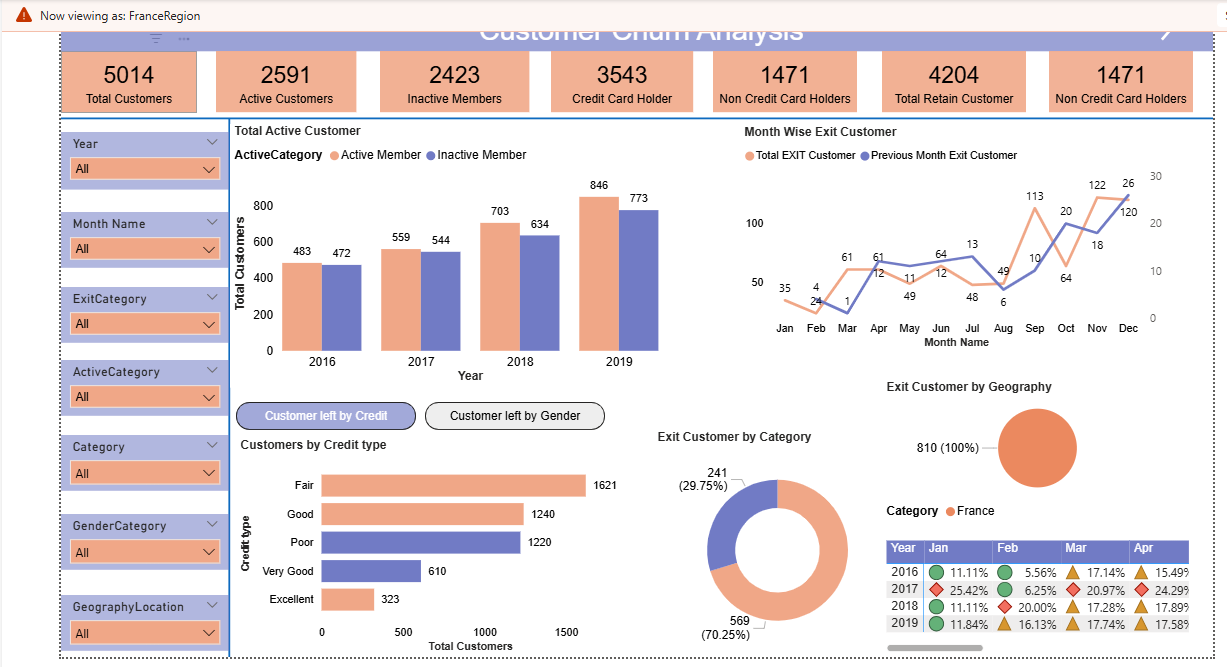

This screenshot's page, from the dashboard's own definition file:
{"tool":"powerbi","page":{"name":"HomePage","canvas":[1280,720],"ordinal":0},"visuals":[{"type":"card","fields":{"Values":["Calculations.Total Customer"]},"box":[0,47,151,68],"z":0},{"type":"textbox","box":[0,0,1280.4,47.2],"z":1000},{"type":"card","fields":{"Values":["Calculations.TotalActivecustomer"]},"box":[172,47,156,68],"z":2000},{"type":"card","fields":{"Values":["Calculations.Inactive Members"]},"box":[354,47,166,68],"z":3000},{"type":"card","fields":{"Values":["Calculations.Credit Card Holder"]},"box":[544,47,158,68],"z":4000},{"type":"card","fields":{"Values":["Calculations.Non Credit Card Holder"]},"box":[724,47,160,68],"z":5000},{"type":"card","fields":{"Values":["Calculations.Total Retain Customer"]},"box":[912,47,160,68],"z":6000},{"type":"card","fields":{"Values":["Calculations.Non Credit Card Holder"]},"box":[1098,47,160,68],"z":7000},{"type":"shape","box":[0,115,1280,12],"z":8000},{"type":"shape","box":[0,121,374,599],"z":9000},{"type":"slicer","fields":{"Values":["DateMaster.Year"]},"box":[0,137,187,64],"z":10000},{"type":"slicer","fields":{"Values":["DateMaster.Month Name"]},"box":[0,225,187,62],"z":11000},{"type":"slicer","fields":{"Values":["ActiveCustomer.ActiveCategory"]},"box":[0,390,187,62],"z":12000},{"type":"slicer","fields":{"Values":["ExitCustomer.ExitCategory"]},"box":[0,309,187,62],"z":13000},{"type":"slicer","fields":{"Values":["CreditCard.Category"]},"box":[0,473,187,62],"z":14000},{"type":"slicer","fields":{"Values":["Gender.GenderCategory"]},"box":[0,561,187,62],"z":15000},{"type":"slicer","fields":{"Values":["Geography.GeographyLocation"]},"box":[0,651,187,62],"z":16000},{"type":"clusteredColumnChart","title":"Total Active Customer","fields":{"Category":["DateMaster.Year","DateMaster.Month Name"],"Y":["Calculations.Total Customers"],"Series":["ActiveCustomer.ActiveCategory"]},"box":[187.8,127.8,481.1,293.3],"z":17000},{"type":"lineChart","title":"Month Wise Exit Customer","fields":{"Y":["Calculations.Total EXIST Customer"],"Y2":["Calculations.Previous Month Exit Customer"],"Category":["DateMaster.Month Name"]},"box":[754.4,128.9,474.4,253.3],"z":18000},{"type":"clusteredBarChart","title":"Customers by Credit type","fields":{"Category":["Bank_Churn.Credit type"],"Y":["Calculations.Total Customers"]},"box":[194.4,476.7,445.6,243.3],"z":20000},{"type":"donutChart","title":"Exit Customer by Category","fields":{"Category":["CreditCard.Category"],"Y":["Calculations.Total EXIT Customer"]},"box":[657.8,467.8,276.7,252.2],"z":21000},{"type":"bookmarkNavigator","box":[194.4,436.7,411.1,31.1],"z":22000},{"type":"pivotTable","fields":{"Rows":["DateMaster.Year"],"Columns":["DateMaster.Month Name"],"Values":["Calculations.Churn %"]},"box":[912.2,585.6,345.6,134.4],"z":23000},{"type":"pieChart","title":"Exit Customer by Geography","fields":{"Y":["Calculations.Total EXIT Customer"],"Category":["Geography.GeographyLocation"]},"box":[912.2,412.2,345.6,165.6],"z":23001},{"type":"actionButton","box":[1202.2,0,77.8,40],"z":23002}]}

Visuals, with their boxes in screenshot pixels (x1, y1, x2, y2):
card - Calculations.Total Customer: 54, 43, 192, 105
textbox: 54, 0, 1226, 43
card - Calculations.TotalActivecustomer: 212, 43, 354, 105
card - Calculations.Inactive Members: 378, 43, 530, 105
card - Calculations.Credit Card Holder: 552, 43, 696, 105
card - Calculations.Non Credit Card Holder: 717, 43, 863, 105
card - Calculations.Total Retain Customer: 889, 43, 1035, 105
card - Calculations.Non Credit Card Holder: 1059, 43, 1205, 105
shape: 54, 105, 1225, 116
shape: 54, 111, 396, 659
slicer - DateMaster.Year: 54, 125, 225, 184
slicer - DateMaster.Month Name: 54, 206, 225, 263
slicer - ActiveCustomer.ActiveCategory: 54, 357, 225, 413
slicer - ExitCustomer.ExitCategory: 54, 283, 225, 339
slicer - CreditCard.Category: 54, 433, 225, 489
slicer - Gender.GenderCategory: 54, 513, 225, 570
slicer - Geography.GeographyLocation: 54, 595, 225, 652
"Total Active Customer" clusteredColumnChart: 226, 117, 666, 385
"Month Wise Exit Customer" lineChart: 744, 118, 1178, 350
"Customers by Credit type" clusteredBarChart: 232, 436, 640, 659
"Exit Customer by Category" donutChart: 656, 428, 909, 659
bookmarkNavigator: 232, 399, 608, 428
pivotTable - DateMaster.Year x DateMaster.Month Name: 889, 536, 1205, 659
"Exit Customer by Geography" pieChart: 889, 377, 1205, 529
actionButton: 1154, 0, 1225, 37
